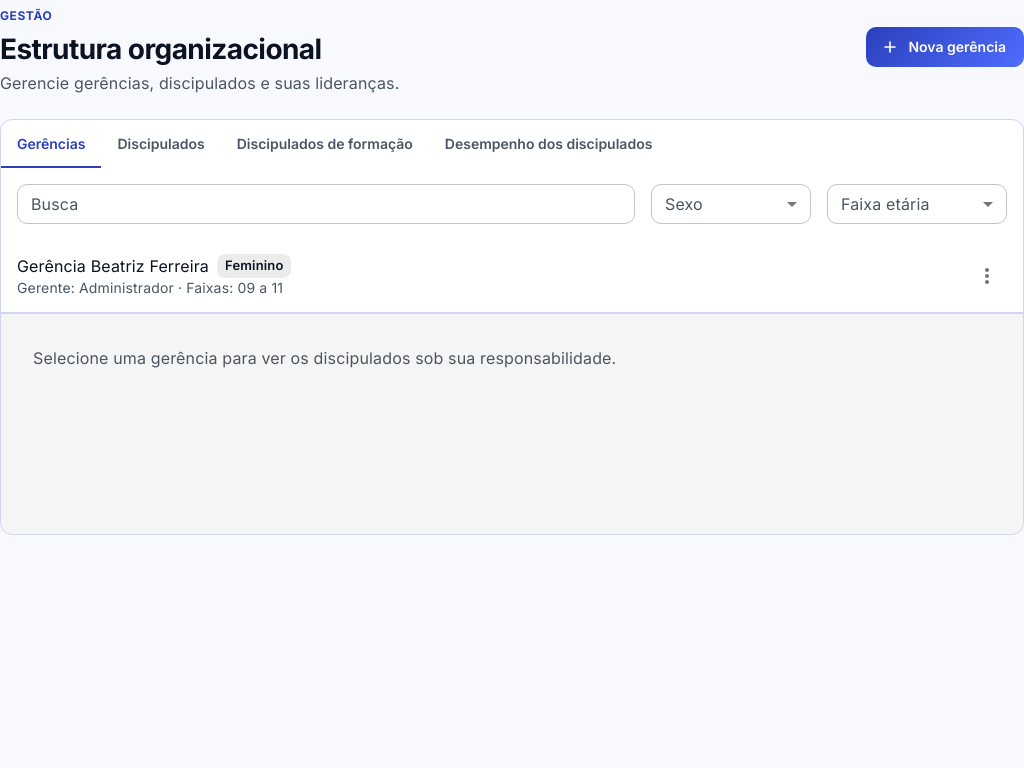
Test: estrutura organizacional — co-líderes › ações de editar não abrem a listagem de adolescentes
Click the tab "Discipulados".
click(161, 144)  # box 101,120 -> 221,168
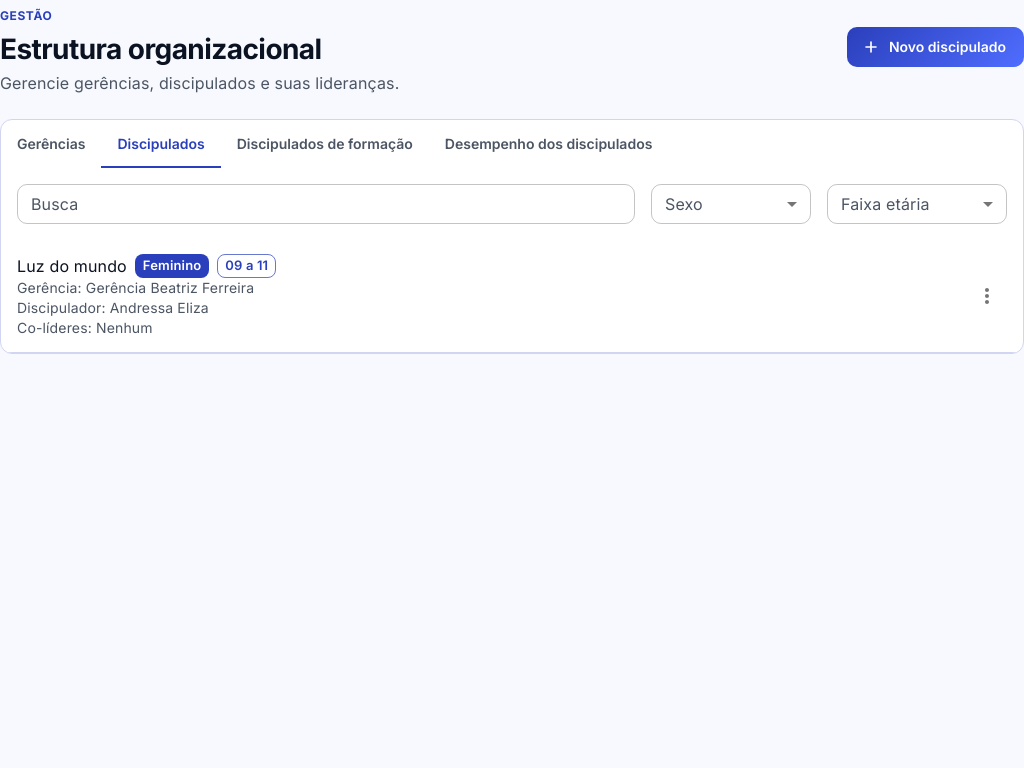
Click the button named "Ações de Luz do mundo".
click(987, 296)  # box 967,276 -> 1007,316
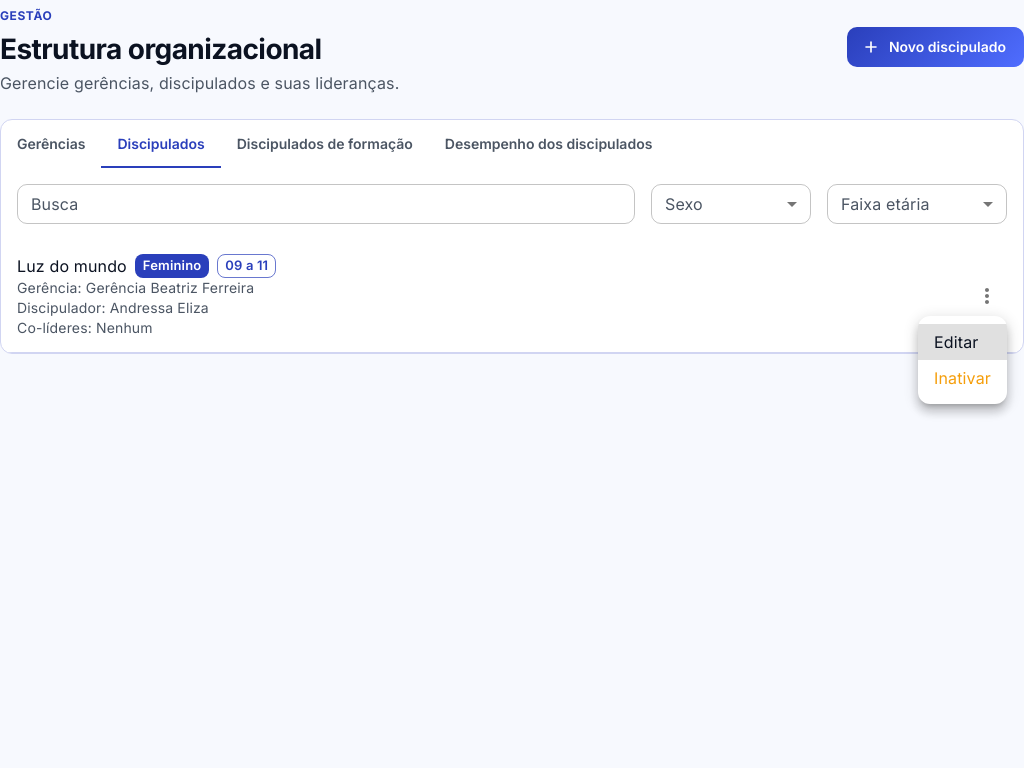
Click the menu item "Editar".
click(962, 342)  # box 918,324 -> 1007,360
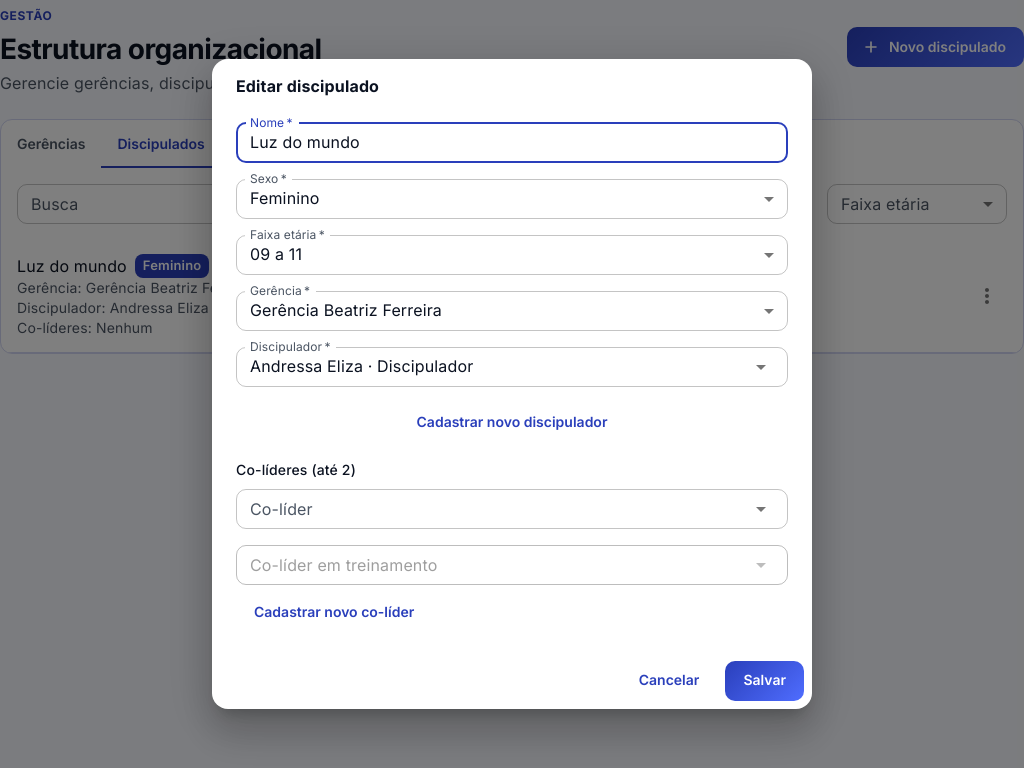
Expected: the heading "Editar discipulado" is shown, 236,76 -> 379,96
